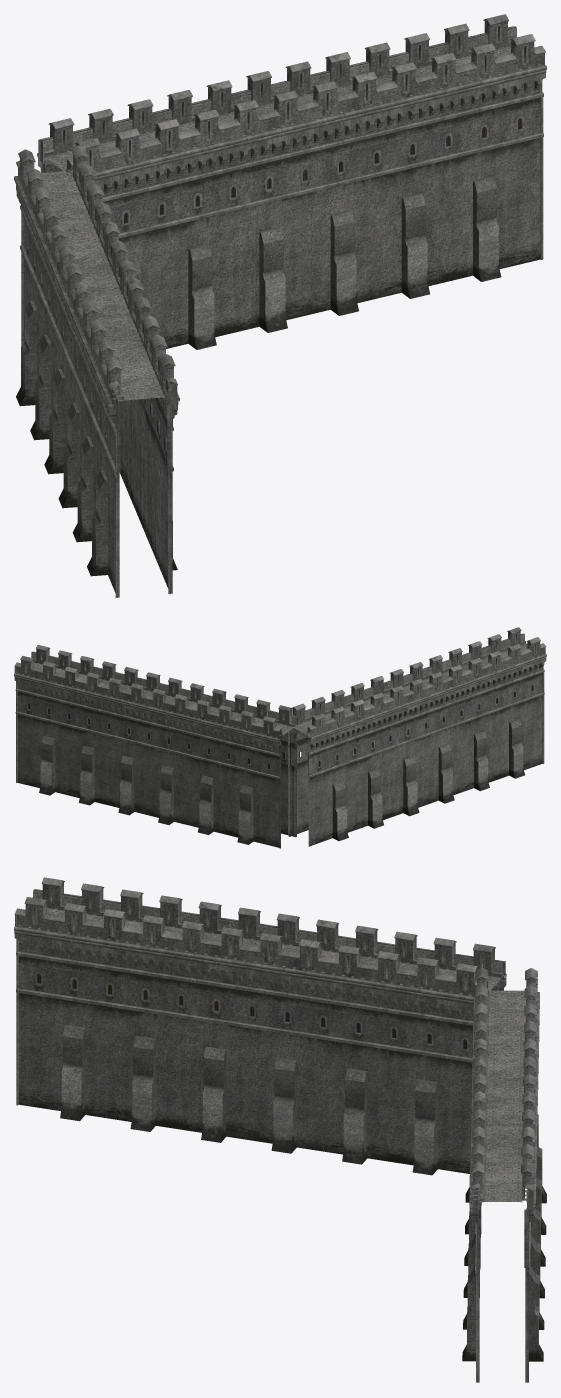
Rendered from Castle_Wall_B_Straight09.fbx.
3 views of the same model, one above another, from view 1: azimuth 30°, elevation 25°; view 2: azimuth 150°, elevation 25°; view 3: azimuth 270°, elevation 25° (orthographic). The views are drawn at different scales.
Parts seen in each view (by area): view 1: Castle_Wall_B_Straight.009; view 2: Castle_Wall_B_Straight.009; view 3: Castle_Wall_B_Straight.009.
Part boxes in pixels (<box>): Castle_Wall_B_Straight.009: <box>14,14,546,598</box>; Castle_Wall_B_Straight.009: <box>14,627,546,848</box>; Castle_Wall_B_Straight.009: <box>14,877,546,1382</box>.
Size of the model in its own units: 4289 by 1383 by 3197.
